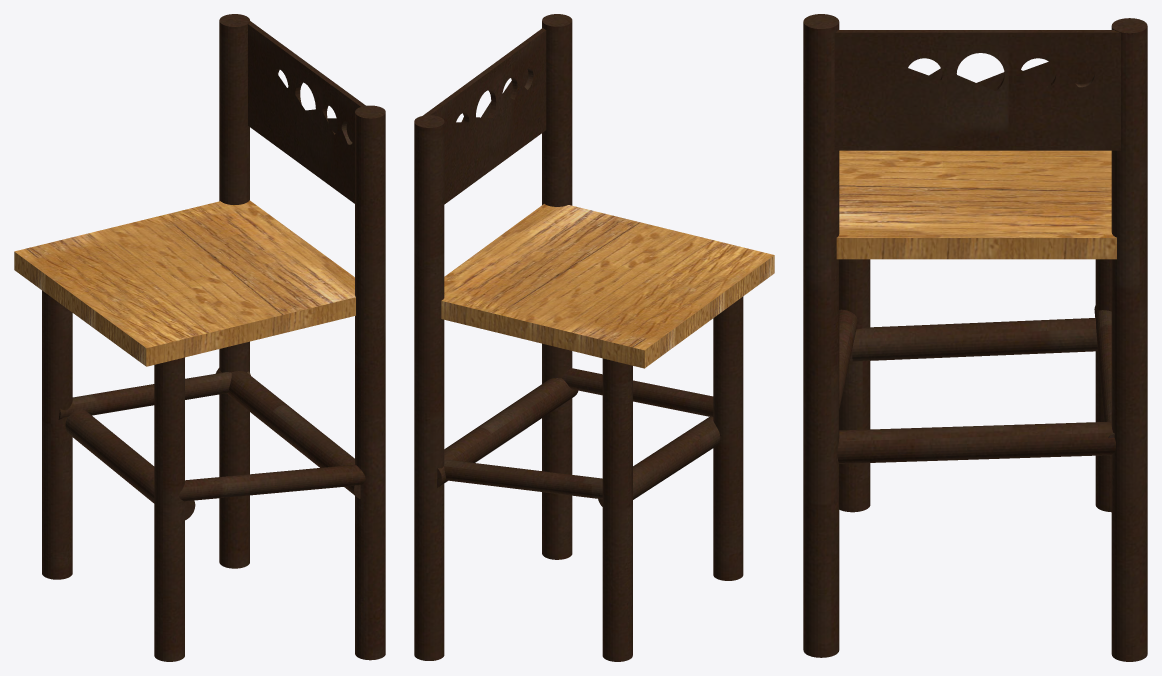
The model's file is starbucks chair.fbx.
The picture shows the model from 3 angles, left to right: view 1: azimuth 30°, elevation 25°; view 2: azimuth 150°, elevation 25°; view 3: azimuth 270°, elevation 25°; orthographic projection. The views are drawn at different scales.
Parts seen in each view (by area): view 1: Cube; view 2: Cube; view 3: Cube.
Boxes of the visible parts, bbox=[...] form: Cube: bbox=[14, 14, 385, 661]; Cube: bbox=[414, 14, 774, 661]; Cube: bbox=[803, 14, 1147, 661].
Size of the model in its own units: 392 by 869 by 427.
1 material, 1 textured.
